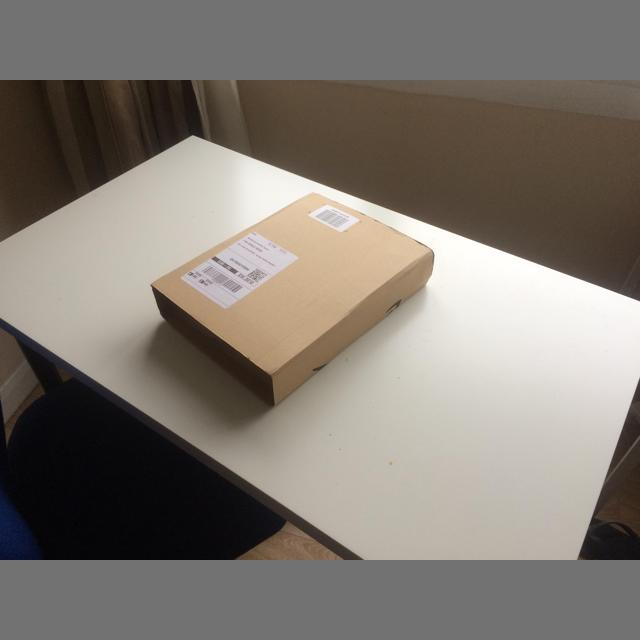litter: (150, 192, 435, 407)
